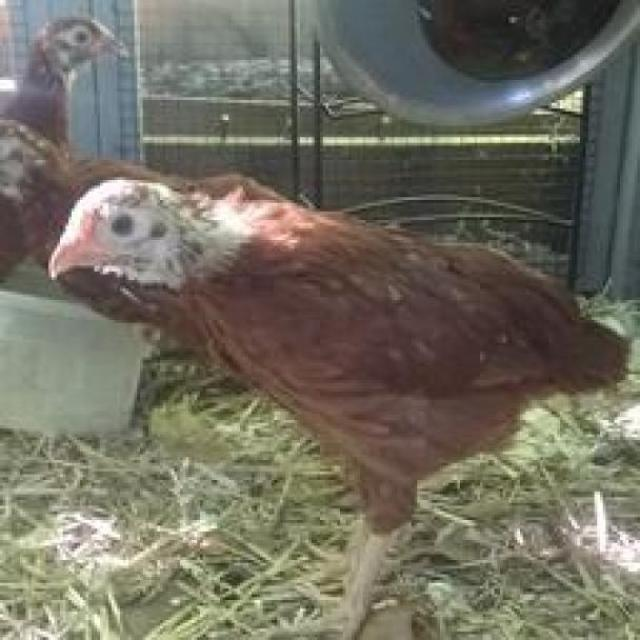Chicken: (71, 153, 591, 625)
